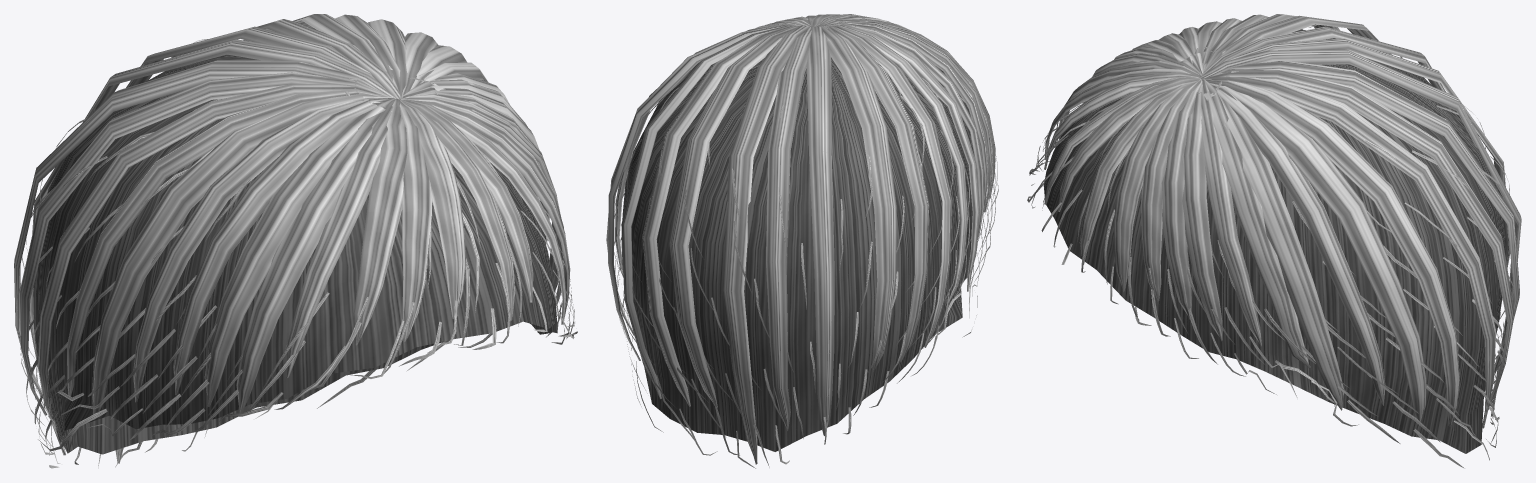
The model's file is unified_m_short.glb.
The picture shows the model from 3 angles, left to right: view 1: azimuth 30°, elevation 25°; view 2: azimuth 150°, elevation 25°; view 3: azimuth 270°, elevation 25°; orthographic projection. The views are drawn at different scales.
Visible parts, largest first — view 1: Hair_directional_locks, Hair_scalp, Hair_layered_strands; view 2: Hair_directional_locks, Hair_scalp, Hair_layered_strands; view 3: Hair_directional_locks, Hair_scalp, Hair_layered_strands.
Boxes of the visible parts, box(x1,y1,x2,y2) form: Hair_directional_locks: box(14, 14, 570, 463); Hair_scalp: box(33, 54, 557, 454); Hair_layered_strands: box(16, 26, 577, 468); Hair_directional_locks: box(606, 14, 995, 464); Hair_scalp: box(621, 57, 974, 451); Hair_layered_strands: box(614, 24, 998, 468); Hair_directional_locks: box(1044, 14, 1521, 428); Hair_scalp: box(1043, 29, 1505, 453); Hair_layered_strands: box(1027, 24, 1517, 468).
Bounding box in the file's own units: 0.1027 × 0.1022 × 0.114.
Materials: 2 (2 with a texture image).
